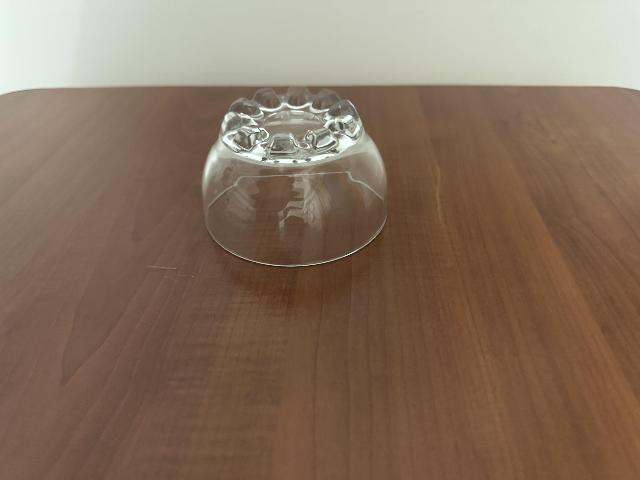Cam: (198, 89, 392, 267)
